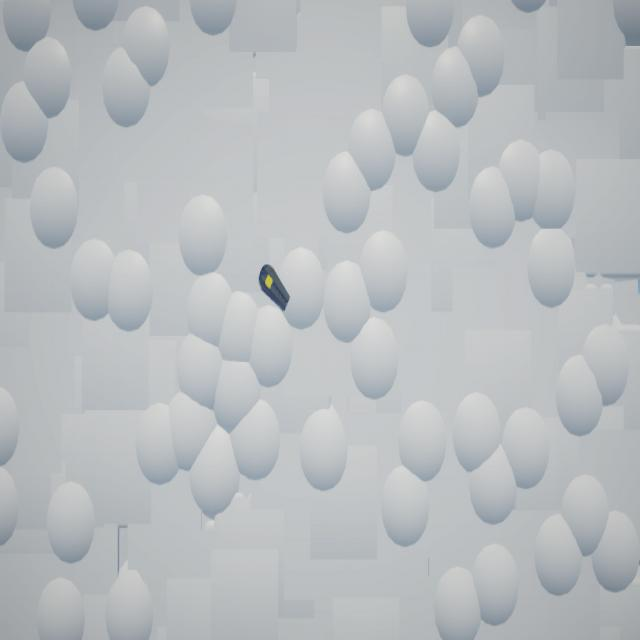handle_folk: (260, 265, 292, 313)
